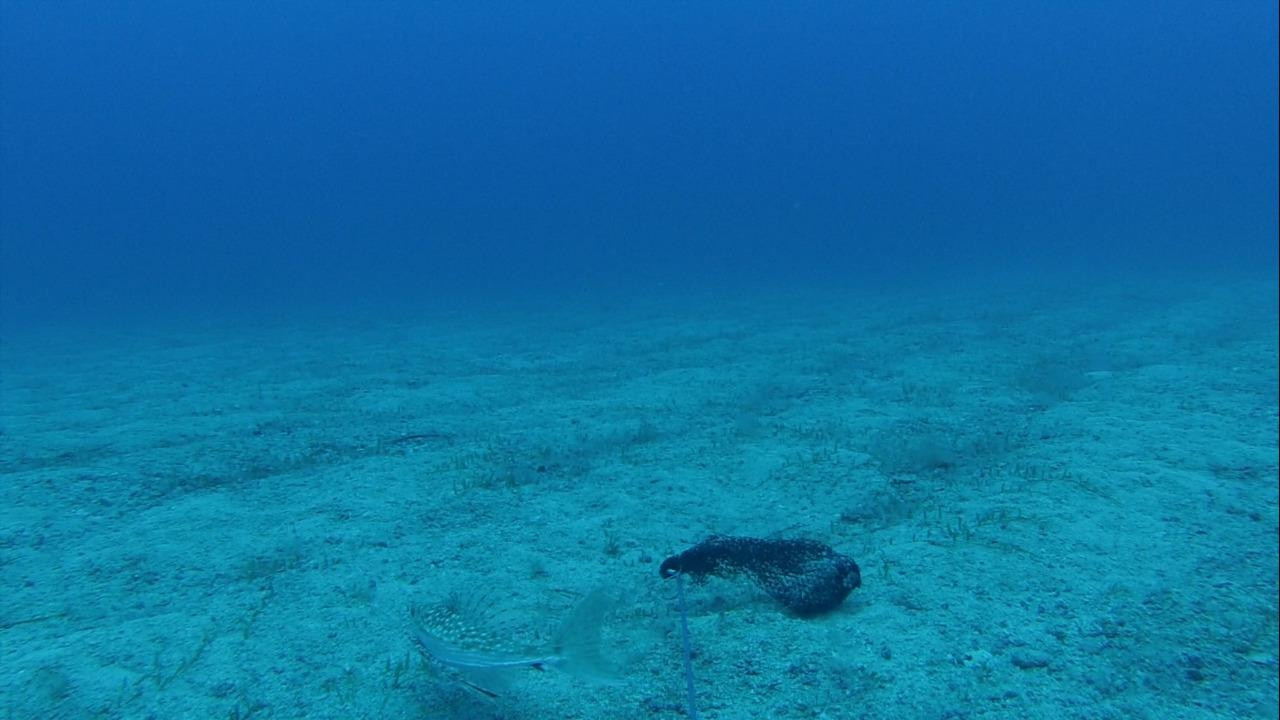dactylopterus: (401, 578, 620, 694)
